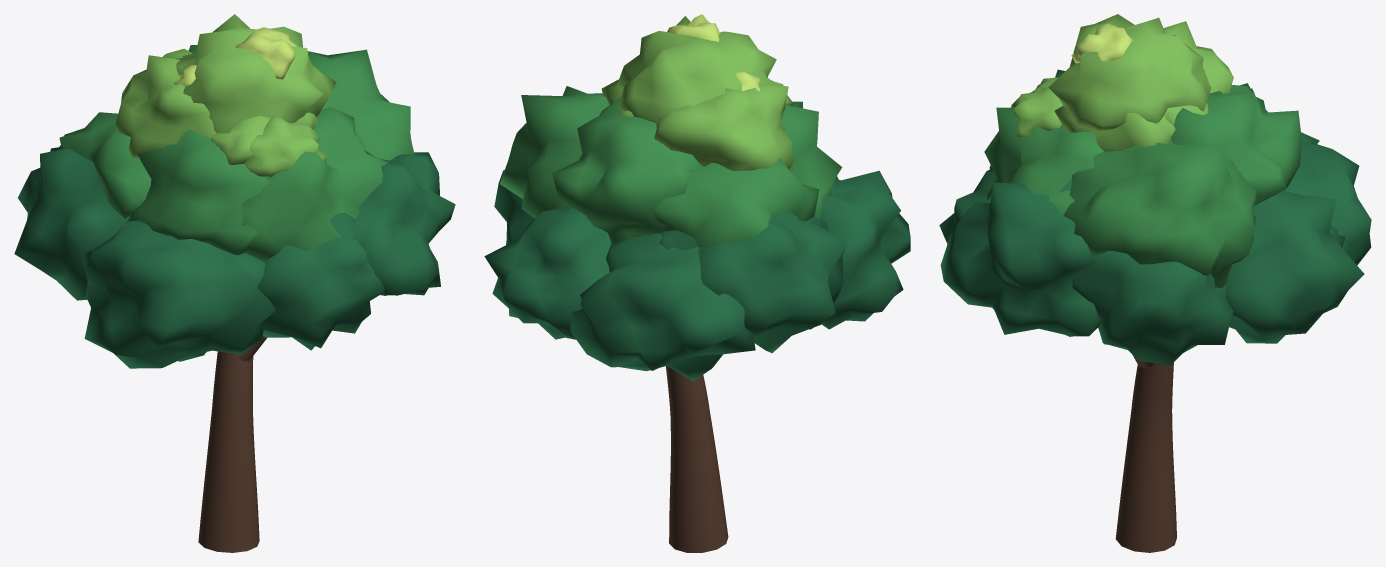
File: tree_a.glb
3 renders of one model, left to right at view 1: azimuth 30°, elevation 25°; view 2: azimuth 150°, elevation 25°; view 3: azimuth 270°, elevation 25°, orthographic. The views are drawn at different scales.
Visible parts, largest first — view 1: leaves.004, leaves.011, leaves.010, leaves.005, leaves.014, leaves.006, leaves.003, trunk, leaves.013, leaves.007, leaves.009, highlight.003 (+2 smaller); view 2: leaves.002, leaves.003, leaves.008, leaves.001, leaves.014, leaves.004, leaves.009, leaves.013, trunk, leaves.007, leaves.010, leaves (+1 smaller); view 3: leaves.007, leaves.006, leaves.001, leaves, leaves.014, trunk, leaves.008, leaves.011, leaves.002, leaves.012, highlight.003, leaves.013 (+2 smaller).
Boxes of the visible parts, box(x1,y1,x2,y2) form: leaves.004: box(81, 220, 275, 368); leaves.011: box(241, 107, 388, 260); leaves.010: box(126, 129, 269, 255); leaves.005: box(251, 213, 384, 350); leaves.014: box(176, 14, 336, 133); leaves.006: box(352, 150, 455, 295); leaves.003: box(14, 147, 130, 300); trunk: box(198, 351, 259, 552); leaves.013: box(115, 48, 216, 158); leaves.007: box(307, 49, 414, 160); leaves.009: box(59, 112, 151, 218); highlight.003: box(244, 114, 326, 177); leaves.002: box(570, 233, 755, 381); leaves.003: box(659, 212, 846, 353); leaves.008: box(552, 96, 702, 243); leaves.001: box(484, 205, 611, 339); leaves.014: box(617, 16, 776, 122); leaves.004: box(821, 170, 910, 329); leaves.009: box(653, 159, 819, 247); leaves.013: box(654, 84, 792, 170); trunk: box(666, 366, 728, 552); leaves.007: box(499, 86, 609, 218); leaves.010: box(780, 101, 842, 219); leaves: box(494, 170, 534, 244); leaves.007: box(1063, 140, 1256, 287); leaves.006: box(940, 179, 1100, 336); leaves.001: box(1225, 190, 1364, 343); leaves: box(1072, 251, 1233, 365); leaves.014: box(1048, 14, 1211, 131); trunk: box(1115, 362, 1176, 552); leaves.008: box(1171, 91, 1301, 205); leaves.011: box(984, 107, 1103, 214); leaves.002: box(1284, 142, 1371, 265); leaves.012: box(1054, 103, 1208, 151); highlight.003: box(1011, 81, 1062, 136); leaves.013: box(1163, 21, 1233, 93).
Bounding box in the file's own units: 8.39 × 11.13 × 8.39.
